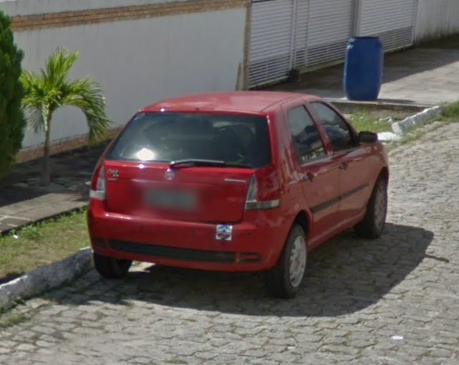car: (82, 87, 392, 300)
